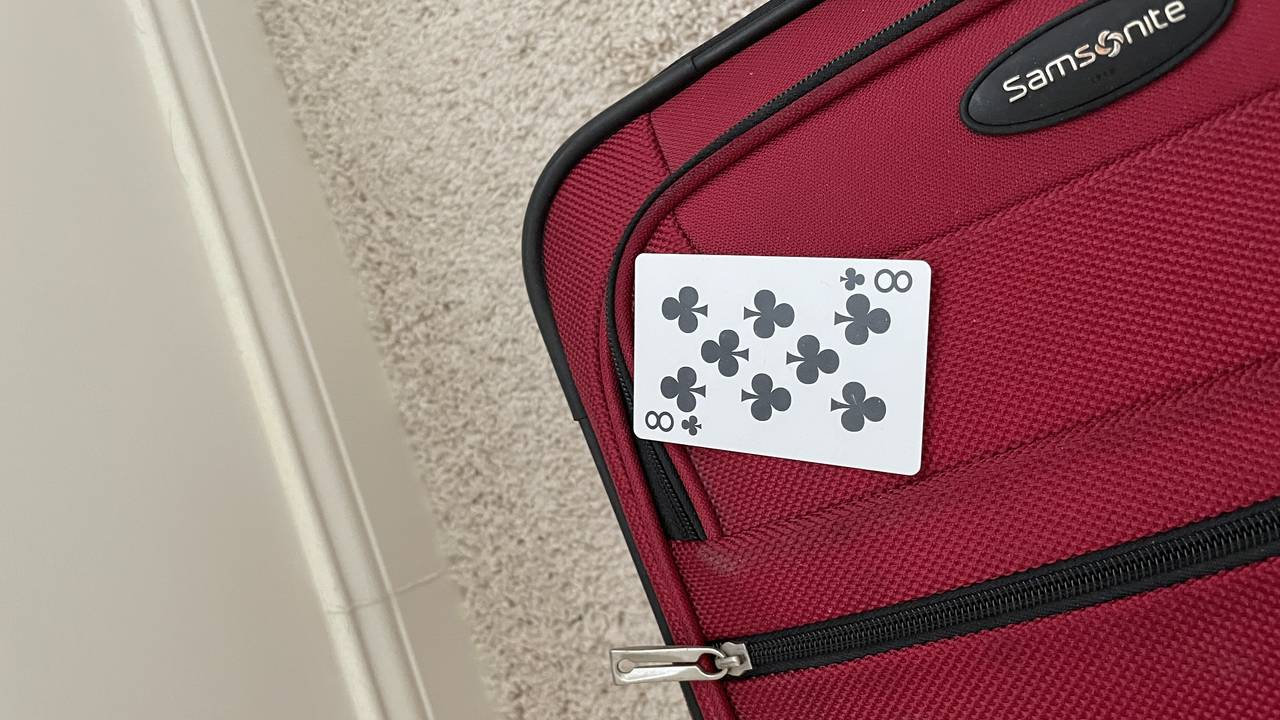eight: (642, 267, 912, 434)
